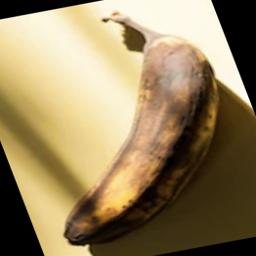Banana Rotten: (62, 8, 256, 255)
